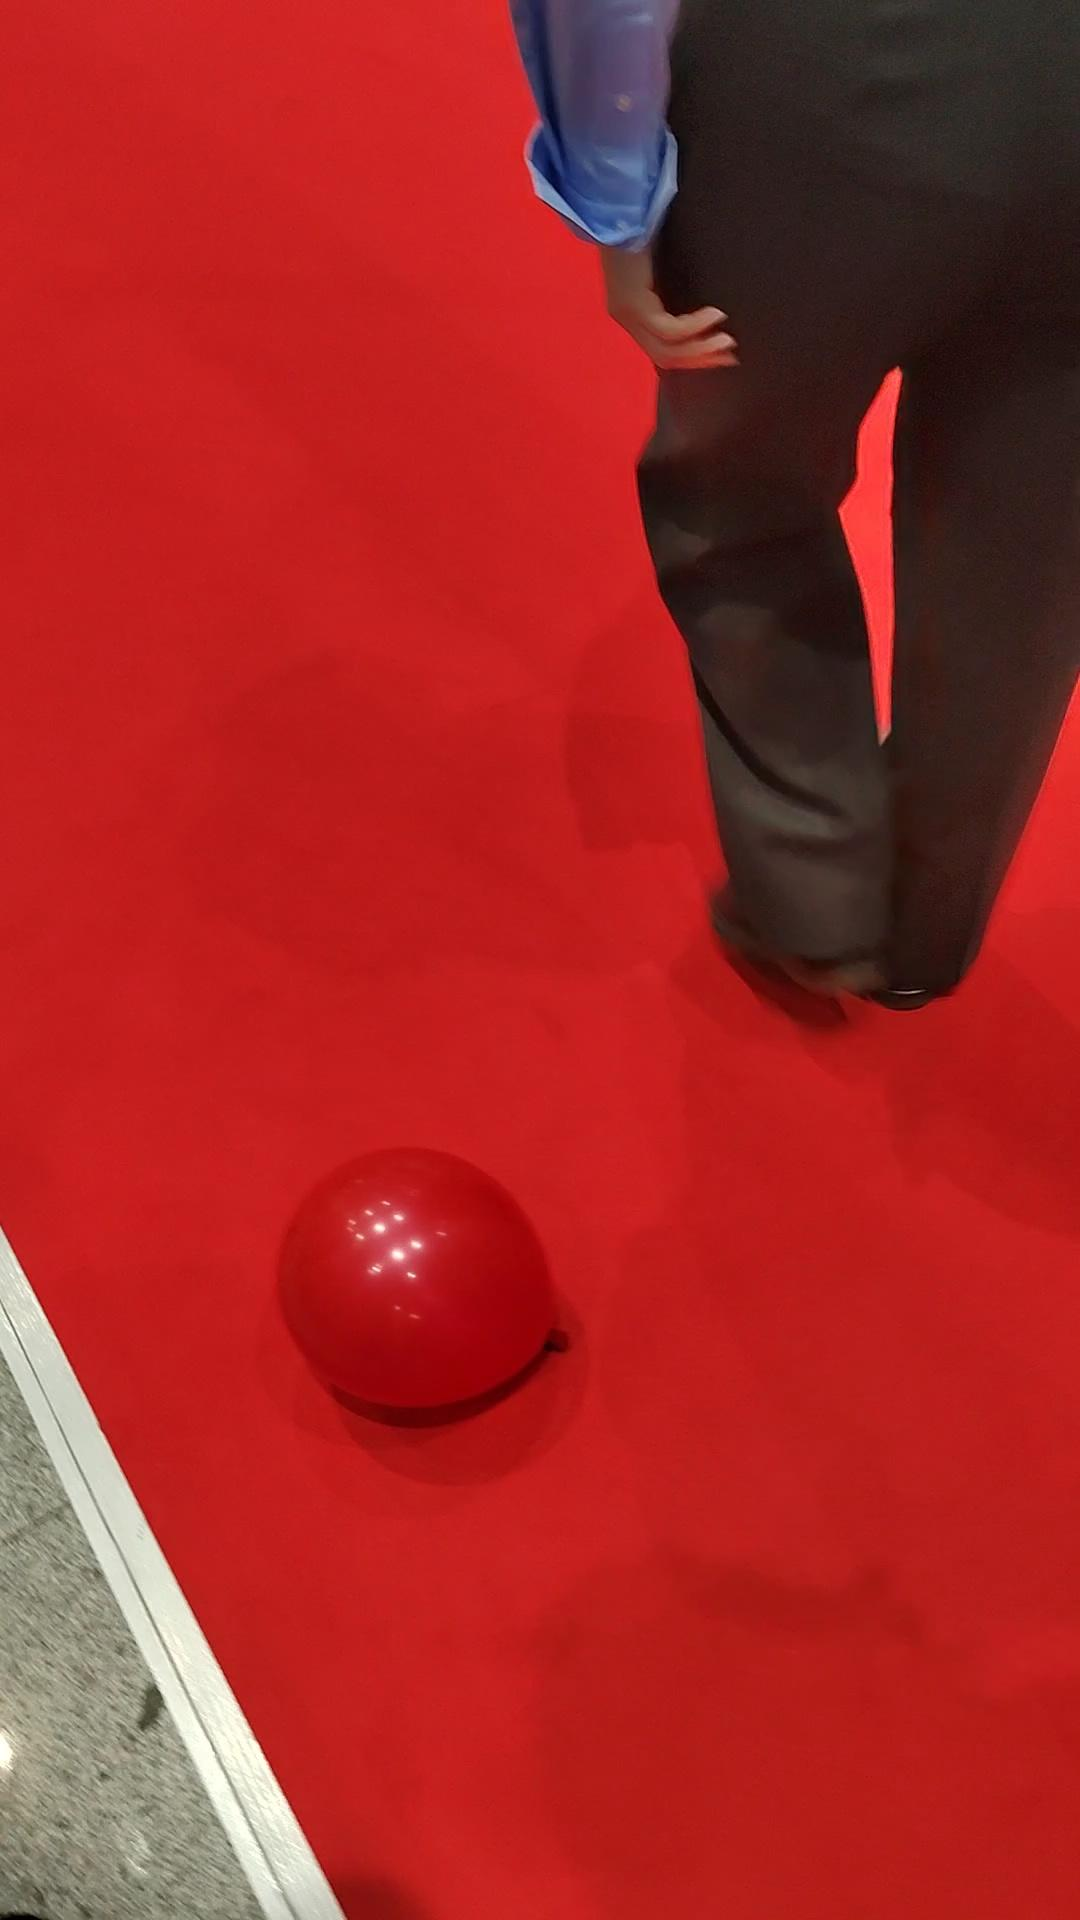red: (278, 1146, 559, 1414)
